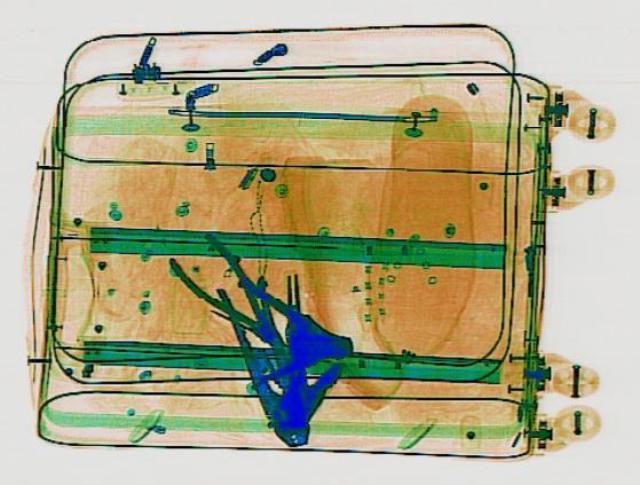Pliers: (156, 228, 308, 357), (241, 339, 323, 447)
